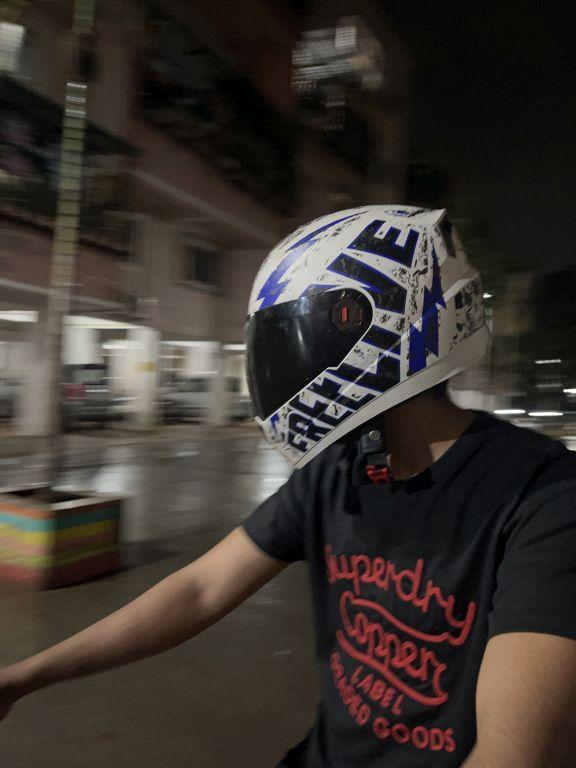helmet: (234, 189, 505, 481)
